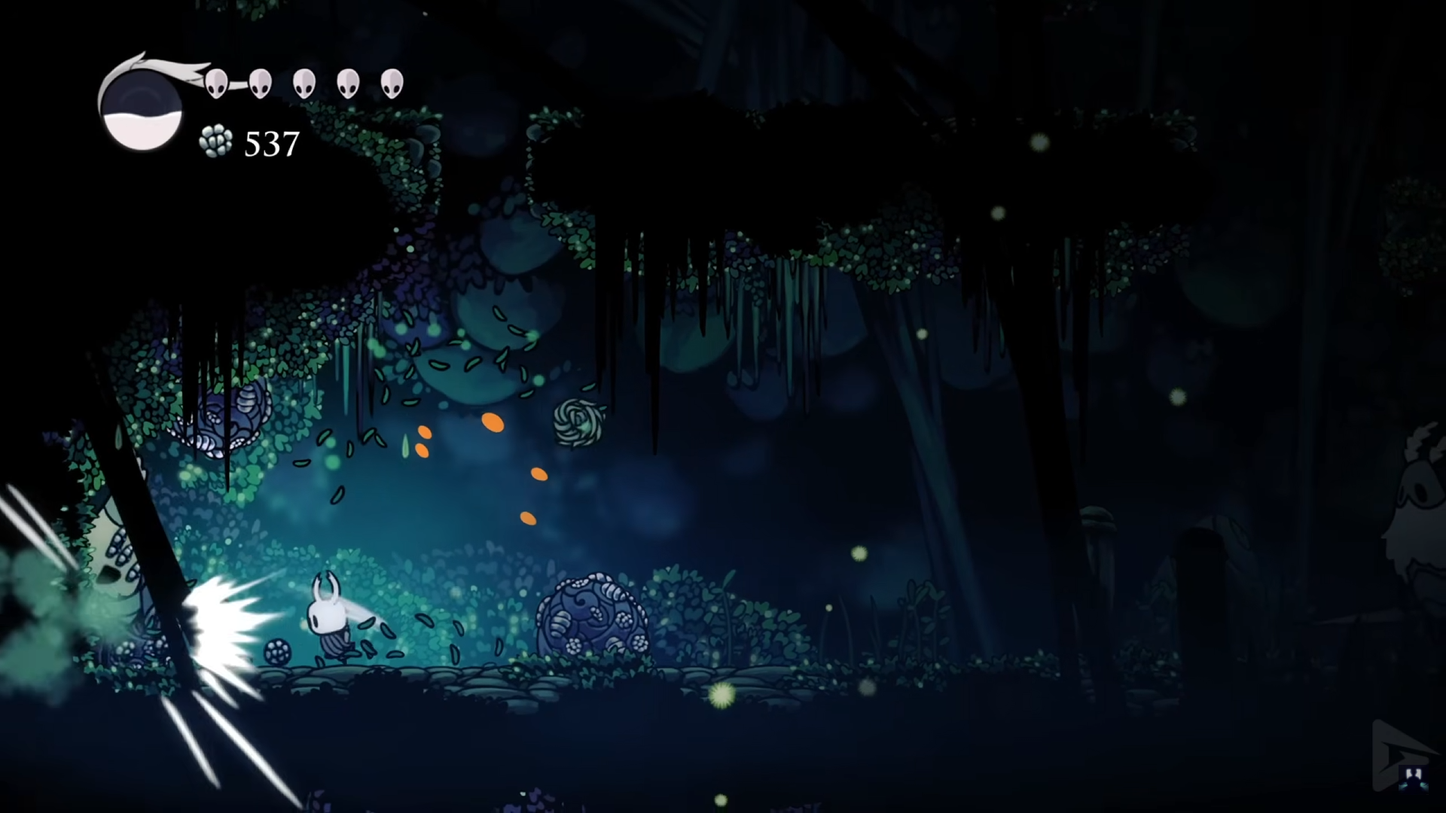HK: (298, 567, 359, 669)
